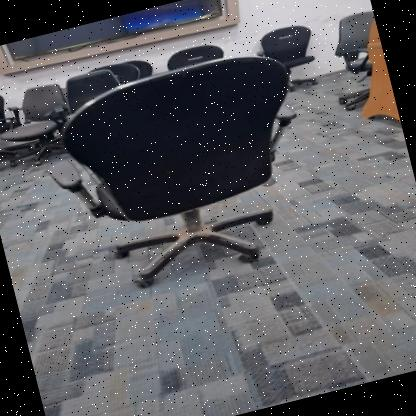chair: (31, 32, 342, 308)
